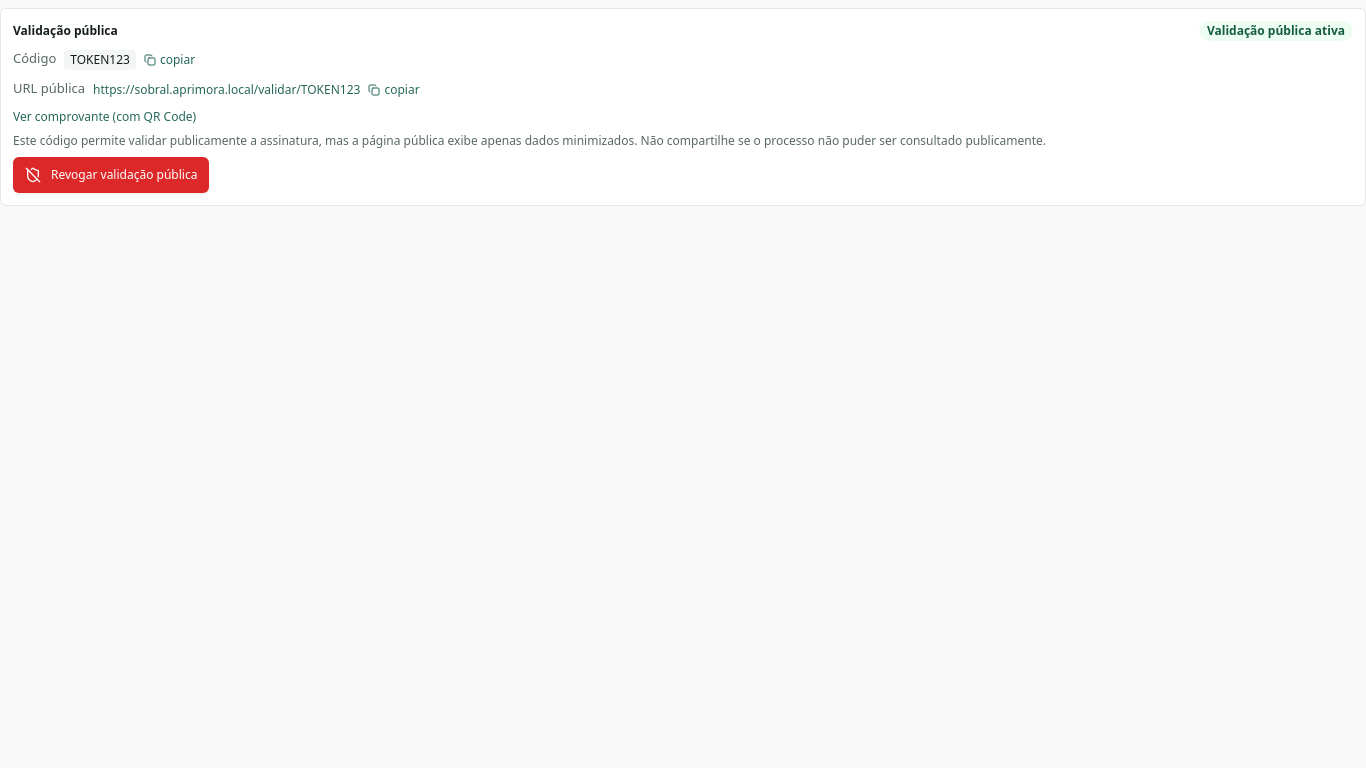
Test: ValidacaoPublicaCard › confirmação envia motivo opcional, revoga e muda o status
Click the button "Revogar validação pública".
click(111, 175)  # box [13,157,209,193]
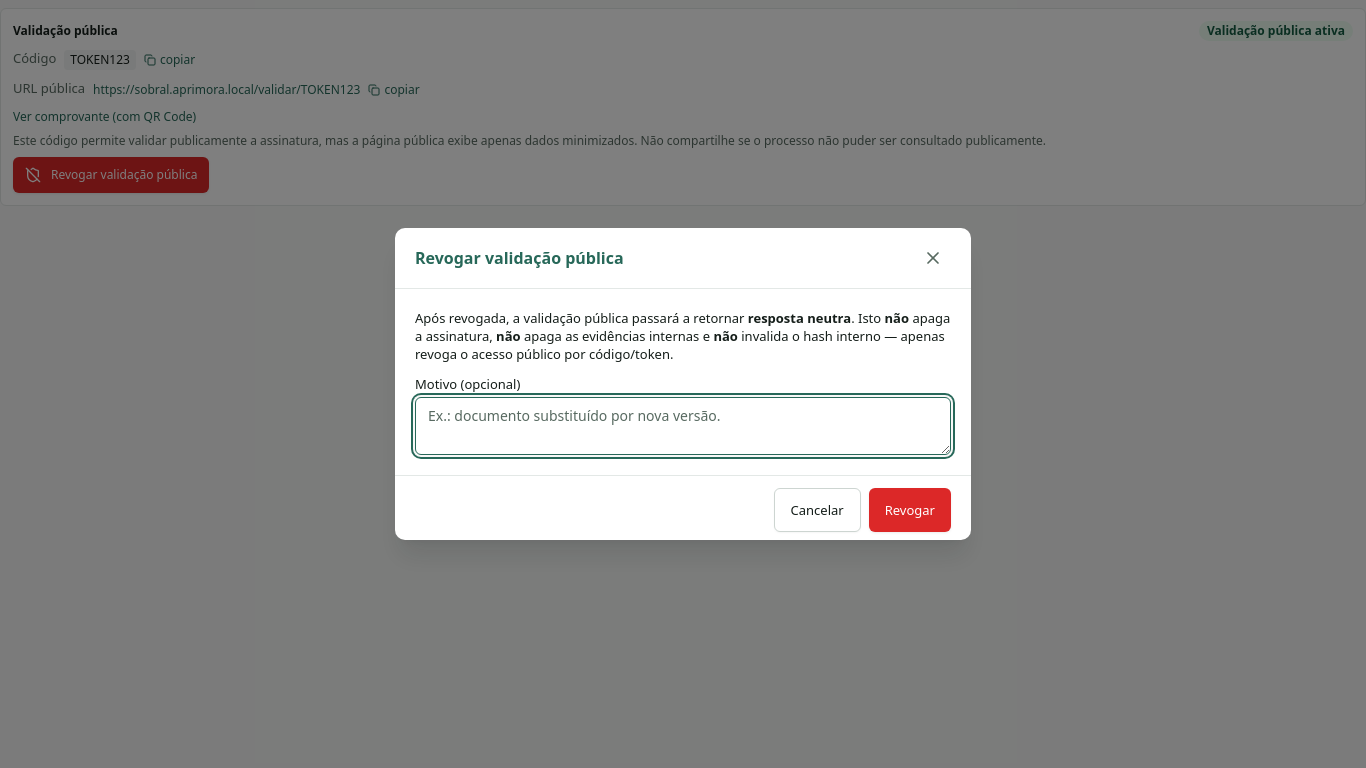
fireEvent (não userEvent.type): o focus-trap do Dialog interfere no type.
Type "documento substituido" into the text box.
click(683, 426); type("documento substituido")  # box [415,397,951,455]
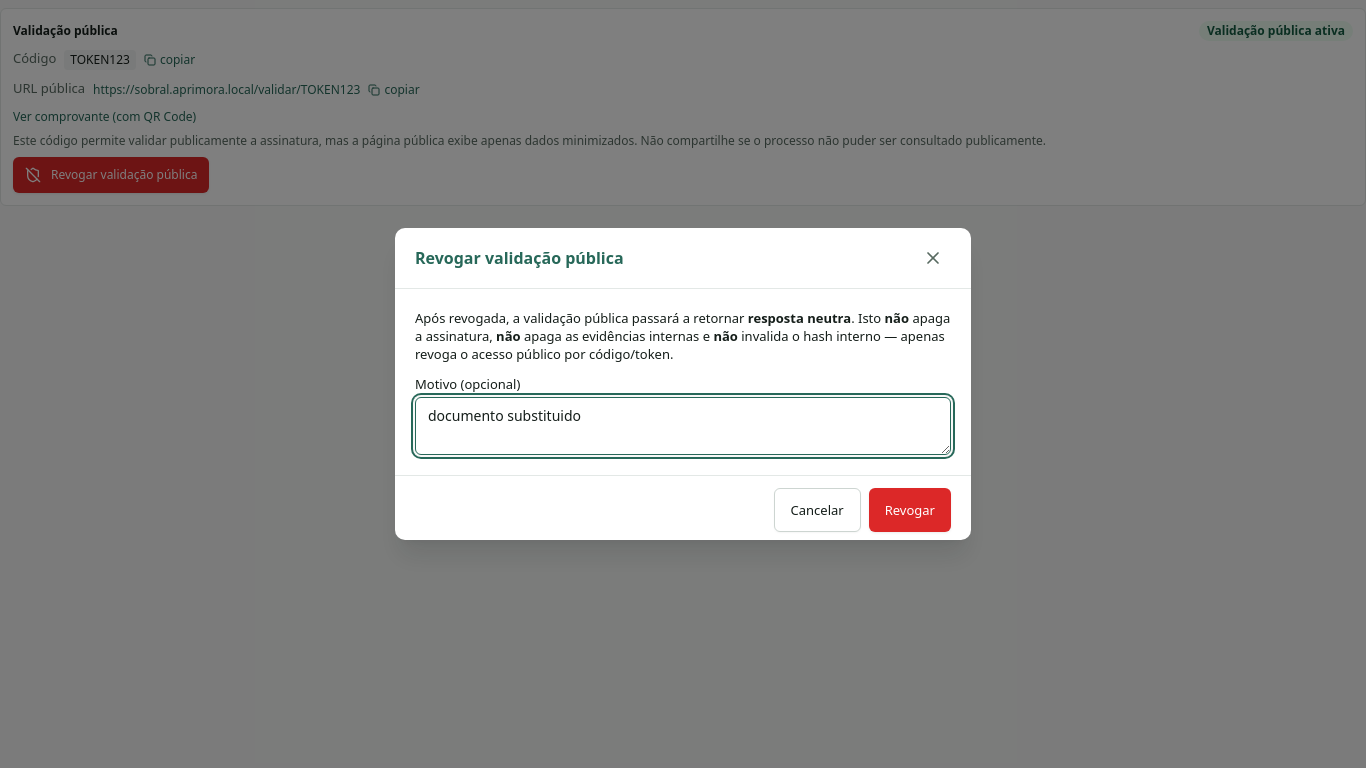
Click the button "Revogar".
click(910, 510)  # box [869,488,951,532]
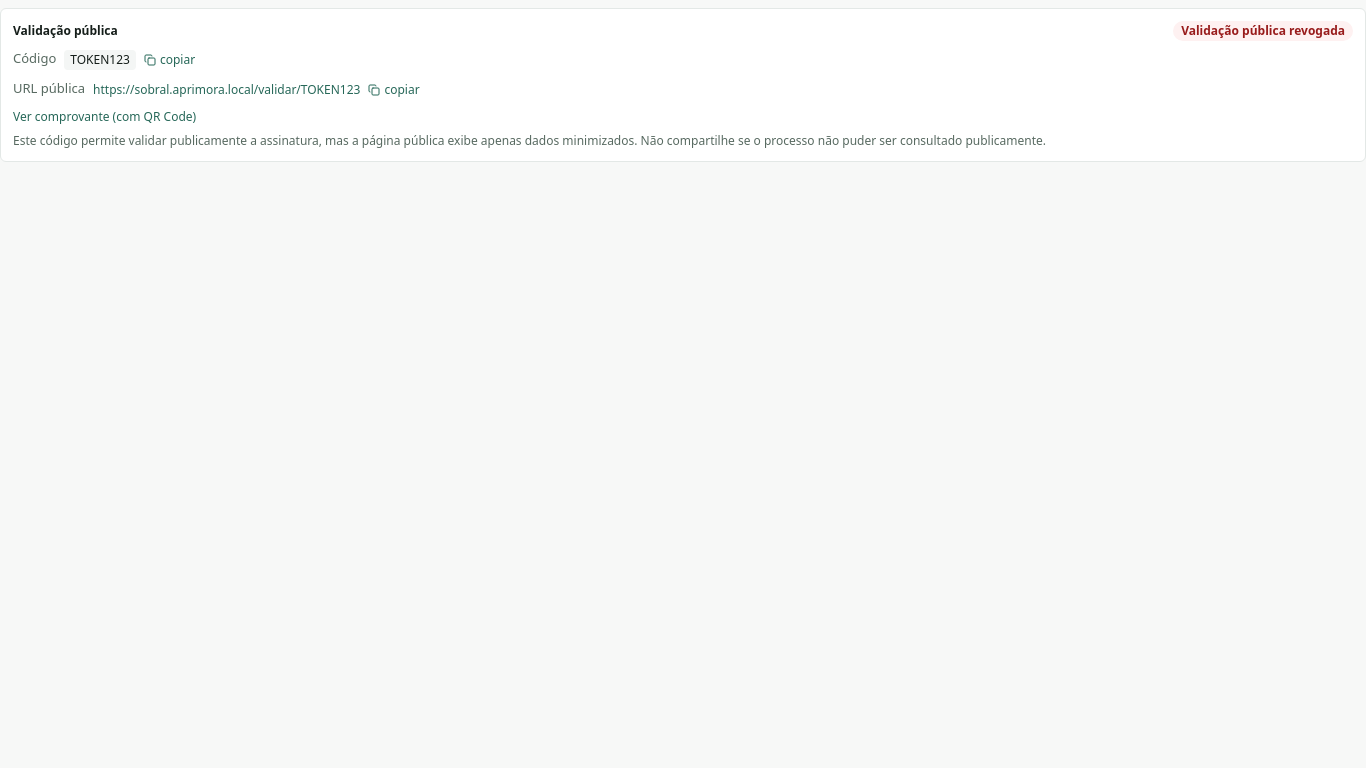
expect the text "Validação pública revogada" is shown: met, box [1173,21,1353,41]
